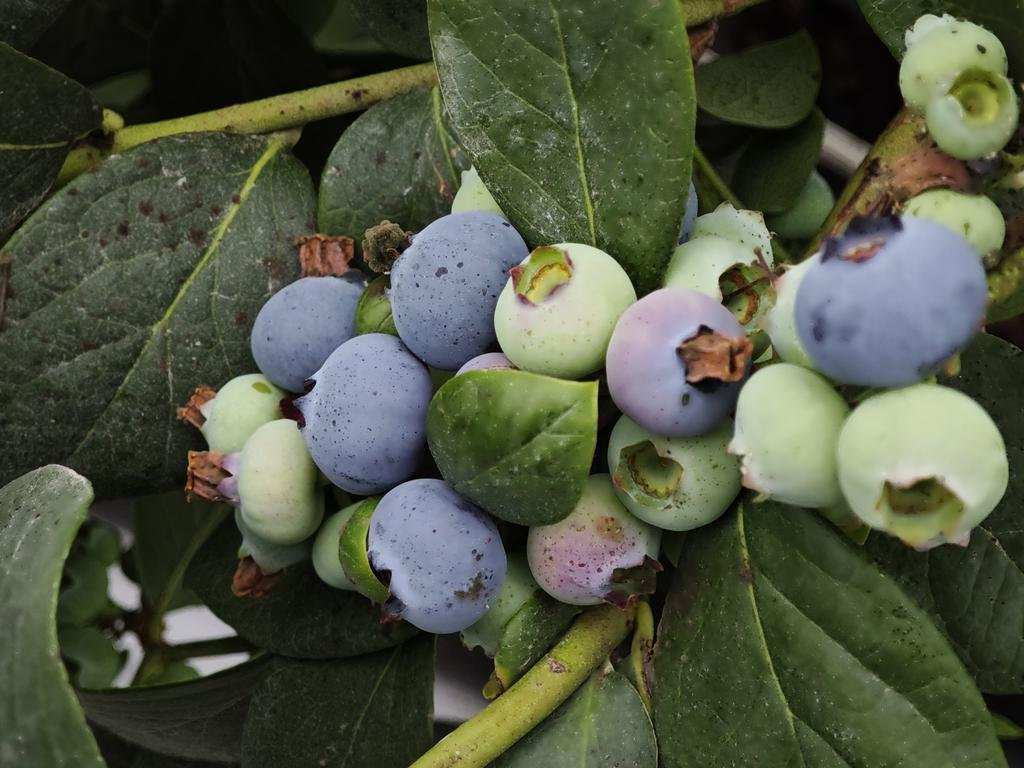RipeBlueBerry: (792, 209, 990, 388), (292, 329, 432, 497), (365, 478, 512, 638), (388, 207, 530, 370)
Semi-RipeBlueBerry: (605, 282, 752, 438)
UnripeBlueBerry: (835, 385, 1011, 555), (492, 235, 634, 376)
